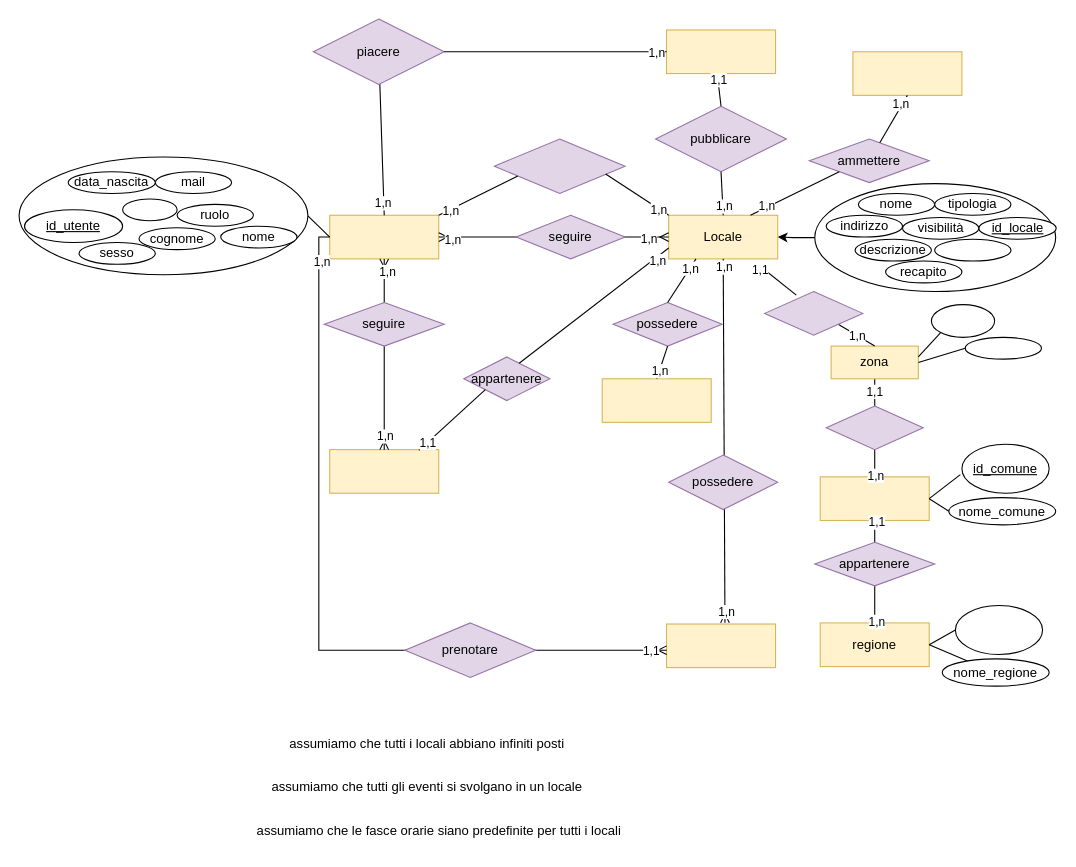
The diagram is 1076 pixels wide and 867 high, and some of its shapes have lost their labels. The centre of each missing label's shape, as x and y in pixels:
"amministrare" belongs at pixel 559 165.
"comune" belongs at pixel 874 498.
"Evento" belongs at pixel 384 471.
"foto_profilo" belongs at pixel 972 249.
"id_regione" belongs at pixel 998 629.
"id_zona" belongs at pixel 962 320.
"nome_zona" belongs at pixel 1002 347.
"Orario" belongs at pixel 907 73.
"Post" belongs at pixel 720 51.
"posto" belongs at pixel 720 645.
"psw" belongs at pixel 149 209.
"servizi" belongs at pixel 656 400.
"trovarsi" belongs at pixel 874 427.
"ubicare" belongs at pixel 813 312.
"Utente" belongs at pixel 384 236.
